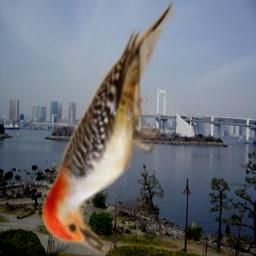Woodpecker: (42, 0, 173, 255)
